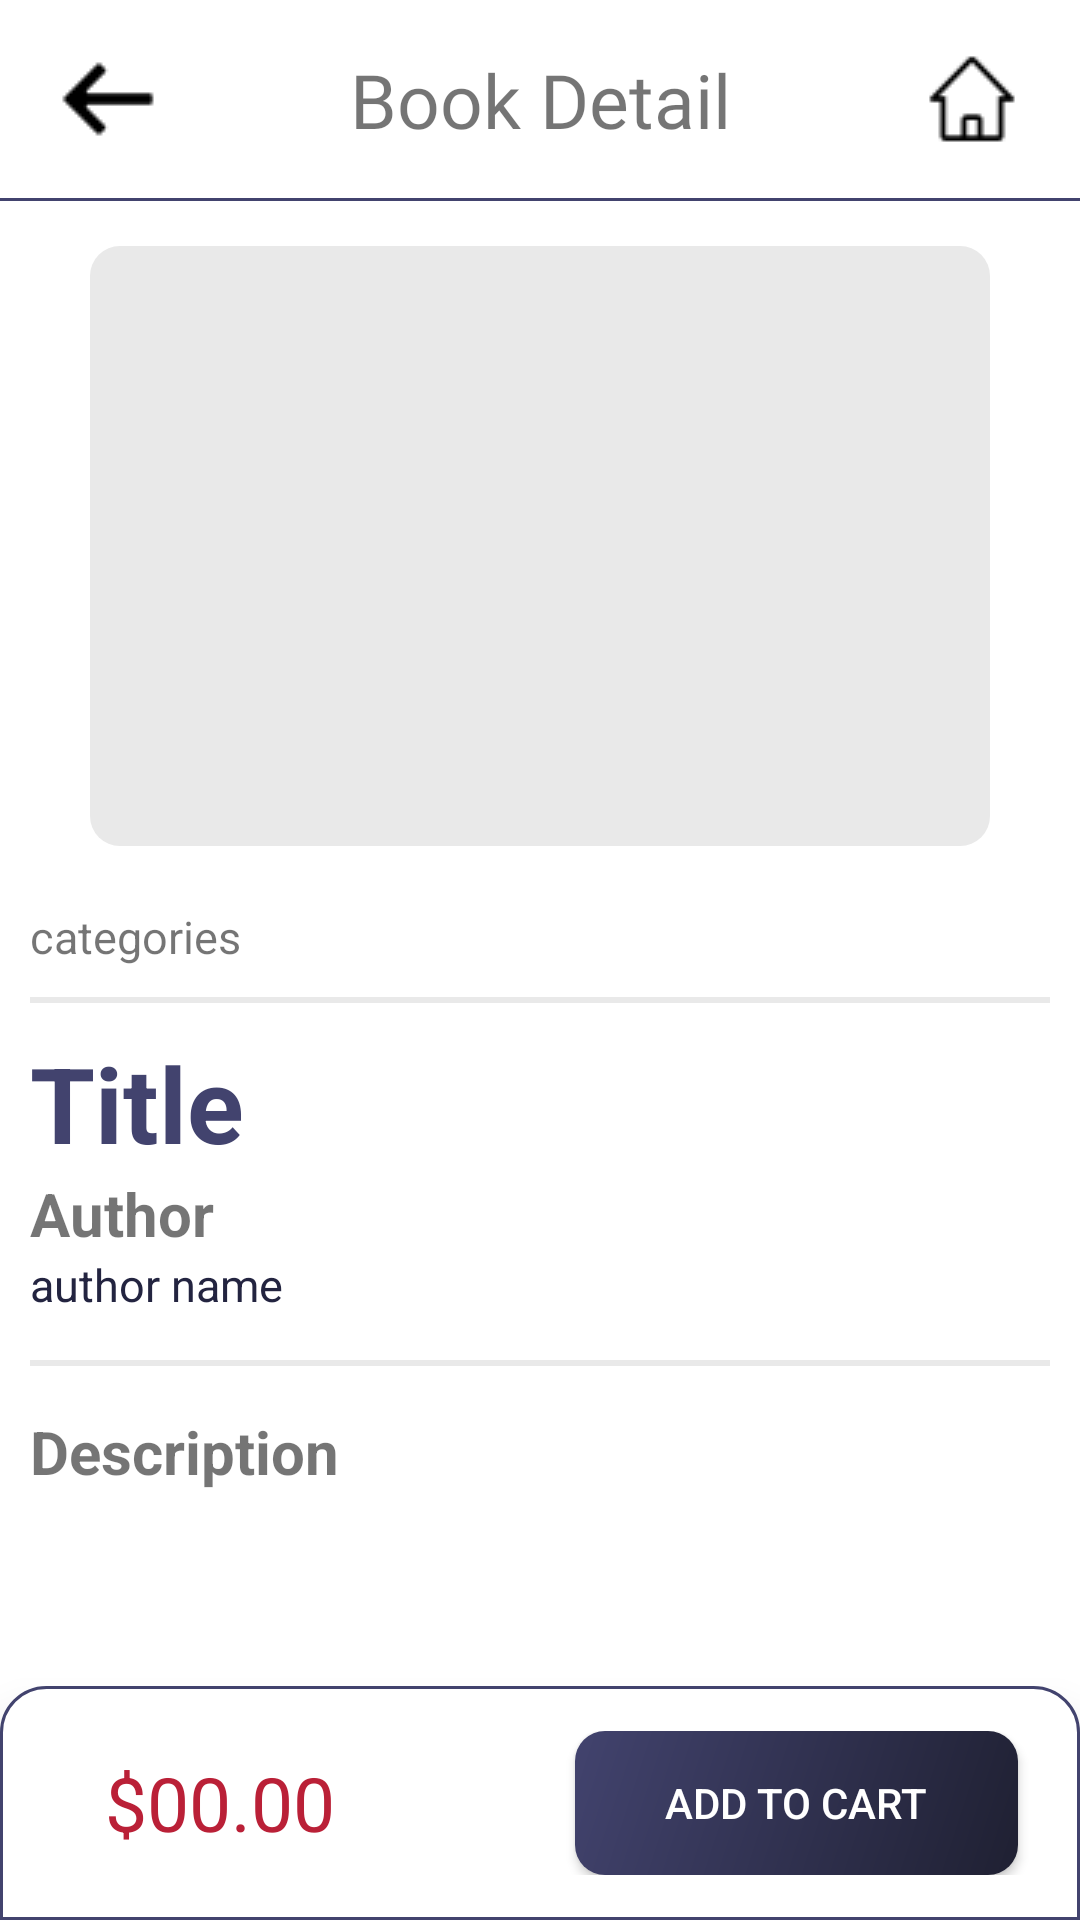

Named icons in this screenshot (1080*1920) and their centers, (x,y):
back: (108,99)
homep: (972,99)
